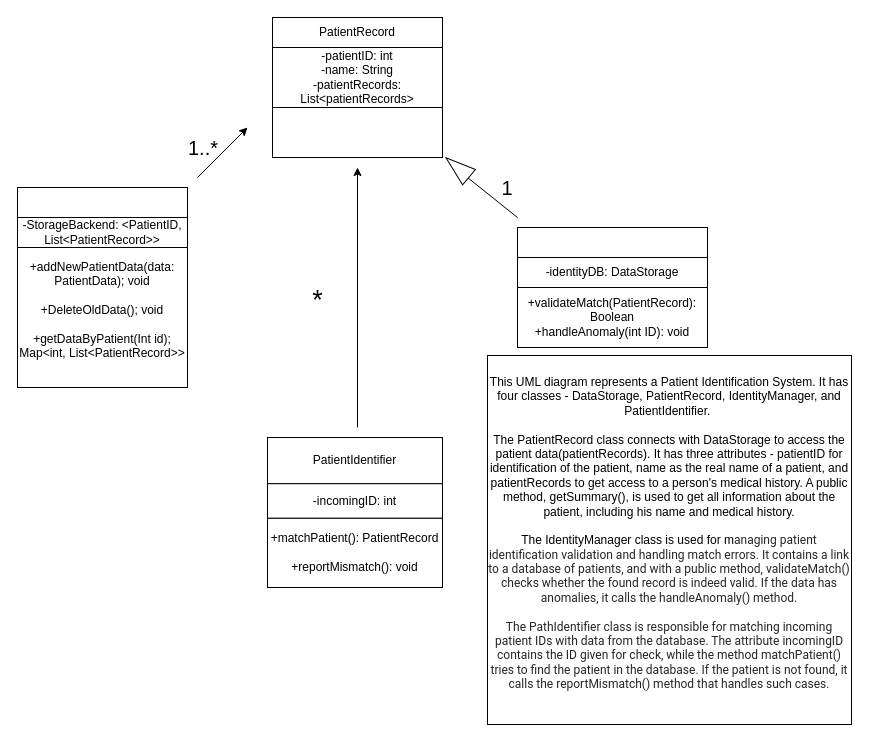
This 869x742 diagram has some shape labels left out. Each missing label, with the centre of its shape:
"+getSummary(int ID): name, List<patientRecords>" goes at (x=357, y=132).
"DataStorage" goes at (x=102, y=202).
"IdentityManager" goes at (x=612, y=242).
